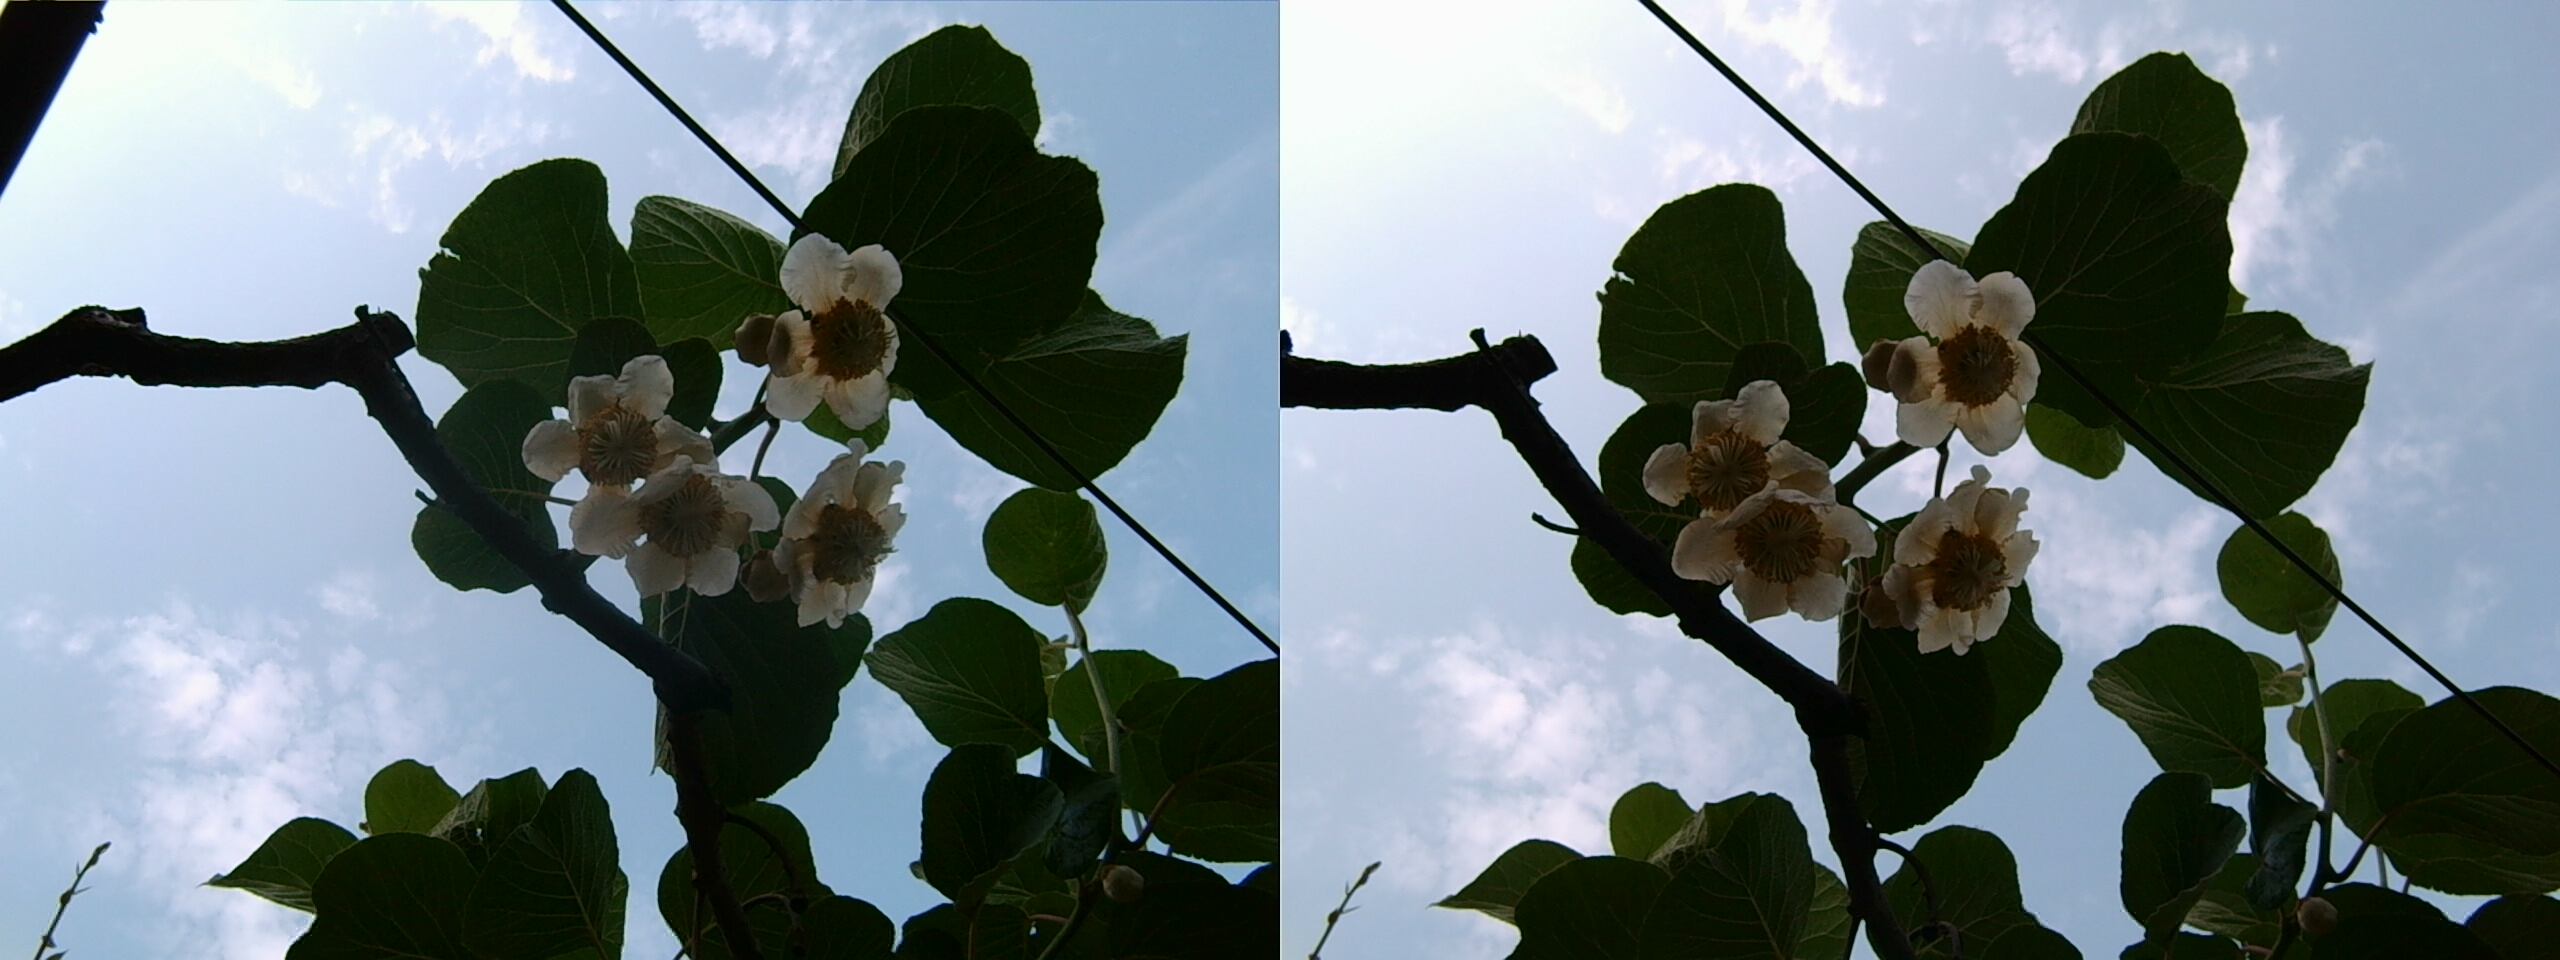flower: (539, 356, 790, 602), (1633, 390, 1876, 616), (731, 224, 911, 439), (1861, 256, 2047, 457), (1856, 467, 2052, 655), (741, 447, 918, 625), (1638, 382, 1824, 539)
